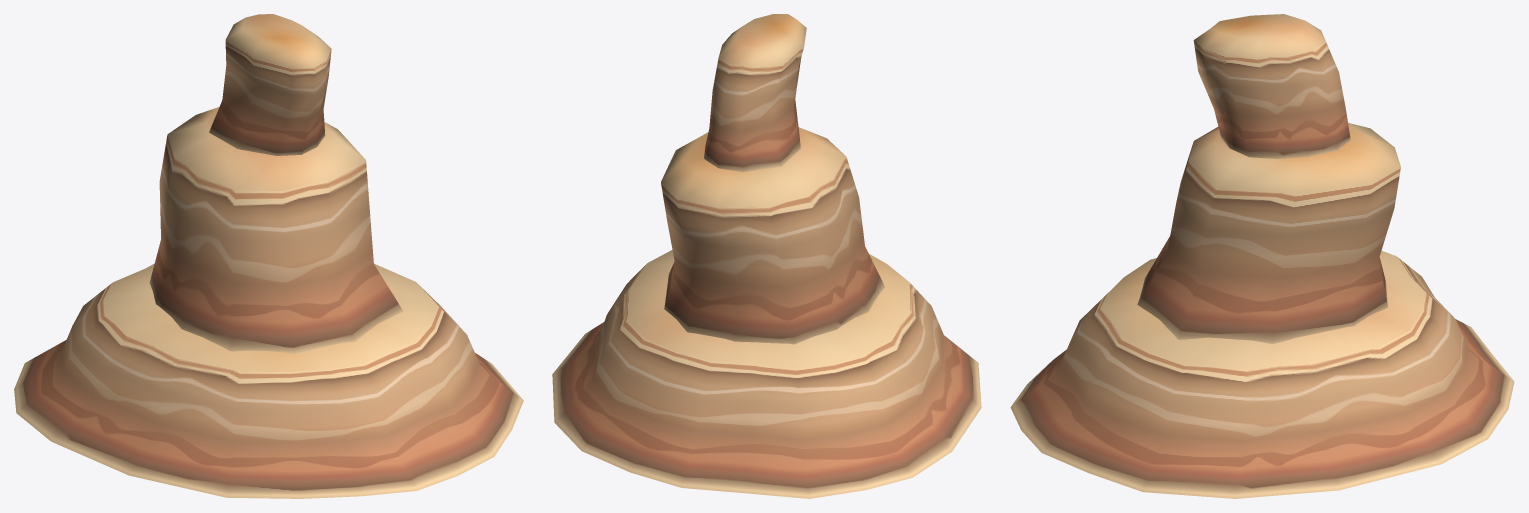
The model's file is Mount_Big_03.FBX.
The picture shows the model from 3 angles, left to right: view 1: azimuth 30°, elevation 25°; view 2: azimuth 150°, elevation 25°; view 3: azimuth 270°, elevation 25°; orthographic projection. The views are drawn at different scales.
Parts seen in each view (by area): view 1: Mount_Big_03; view 2: Mount_Big_03; view 3: Mount_Big_03.
Part boxes in pixels (bbox=[...]): Mount_Big_03: bbox=[14, 14, 523, 498]; Mount_Big_03: bbox=[552, 14, 981, 498]; Mount_Big_03: bbox=[1010, 14, 1514, 498].
Bounding box in the file's own units: 30.22 × 26.18 × 31.94.
